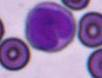M: (24, 1, 75, 53)
